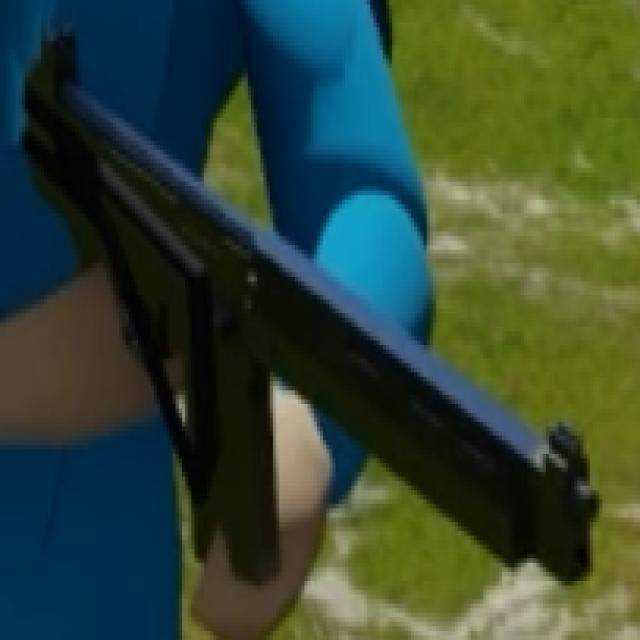RifleTel: (14, 29, 606, 601)
